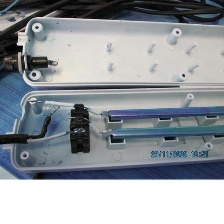three_eye_plug: (1, 80, 223, 176), (1, 12, 223, 90)
